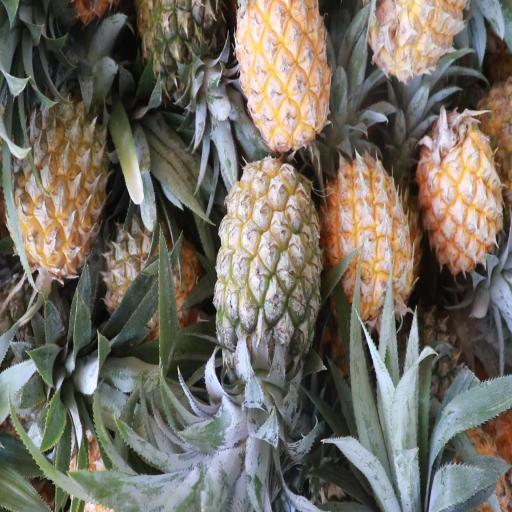------------------------------: (215, 163, 320, 382), (104, 209, 199, 336)
Pineapple - v8 v1: (10, 95, 106, 274), (418, 108, 504, 278), (326, 152, 413, 318), (236, 2, 333, 150)
